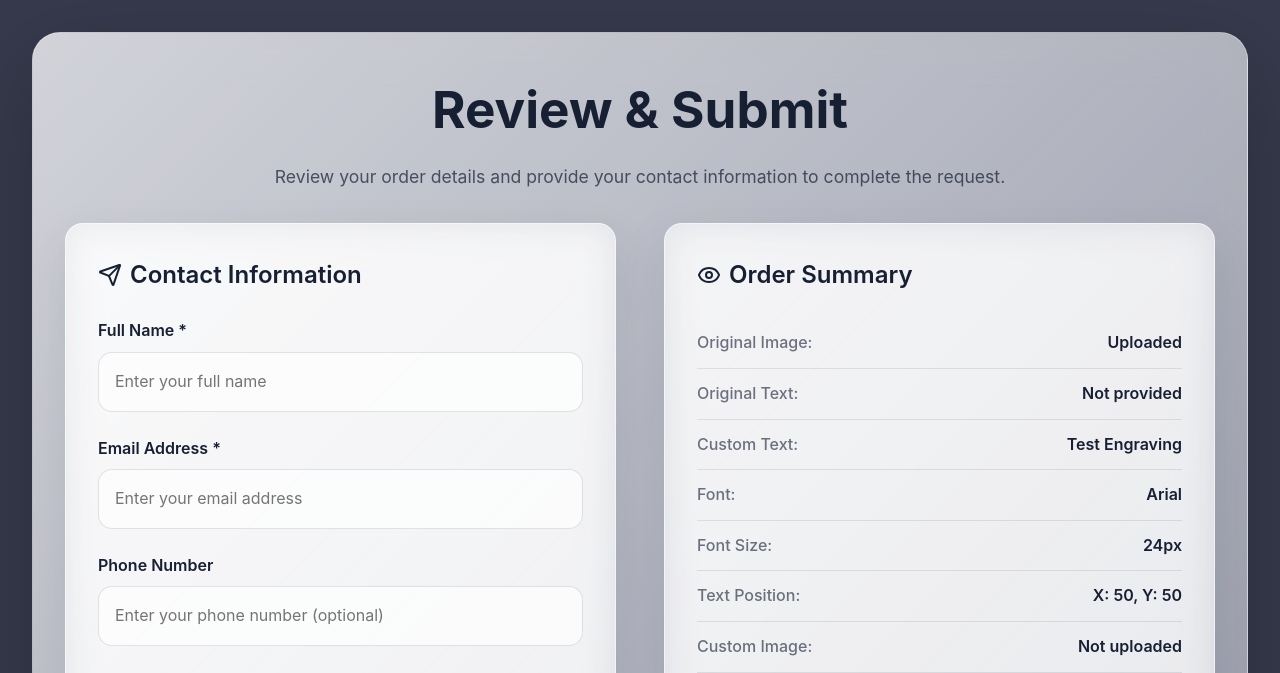
Scenario: Step3Submit Integration Tests › successfully submits and stores request
Note: Fill in required fields
Type "John Doe" into the field labelled "Full Name *" at (340, 382), box [98,352,583,412]
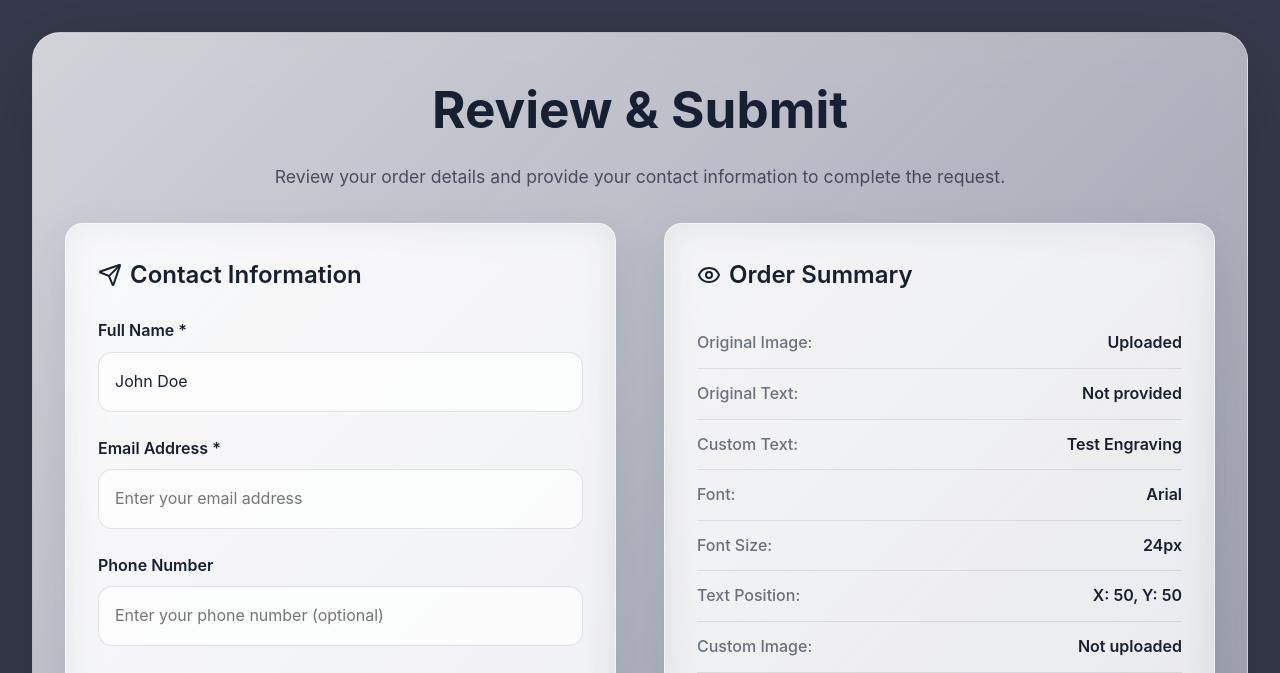
Type "john@example.com" into the field labelled "Email Address *" at (340, 499), box [98,469,583,529]
(page scrolled)
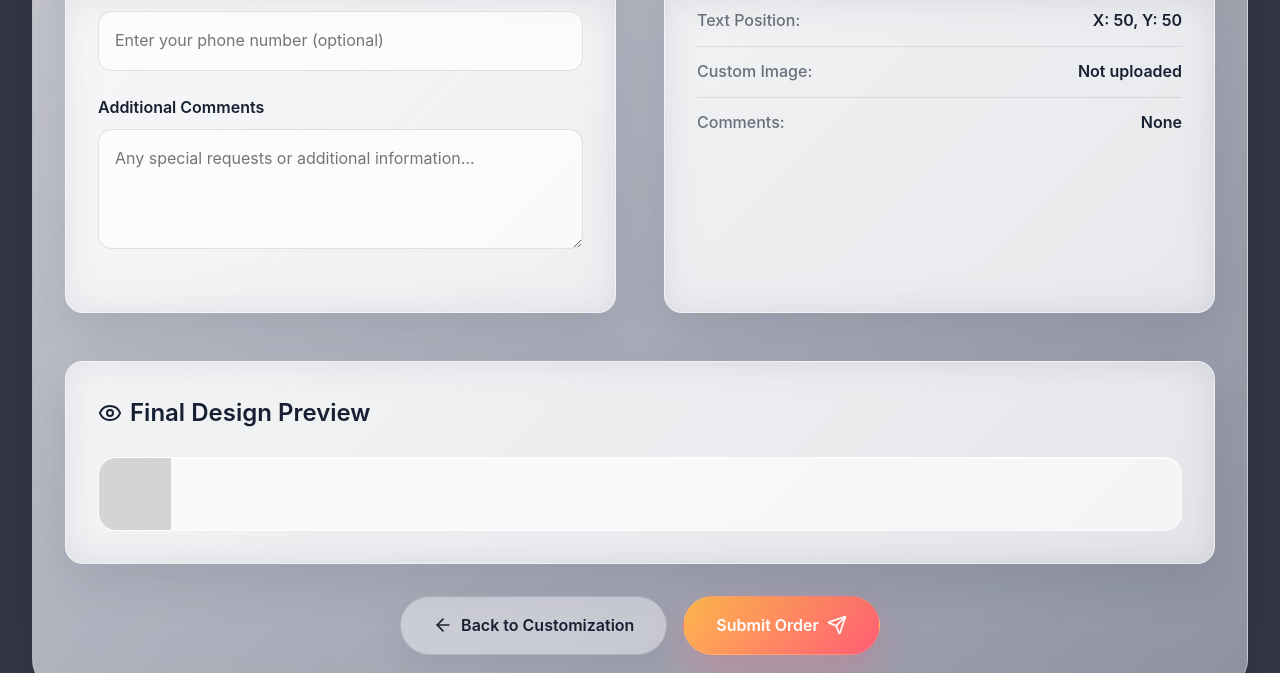
Note: Submit the form
Click the button "Submit Order" at (782, 625), box [683,596,880,655]
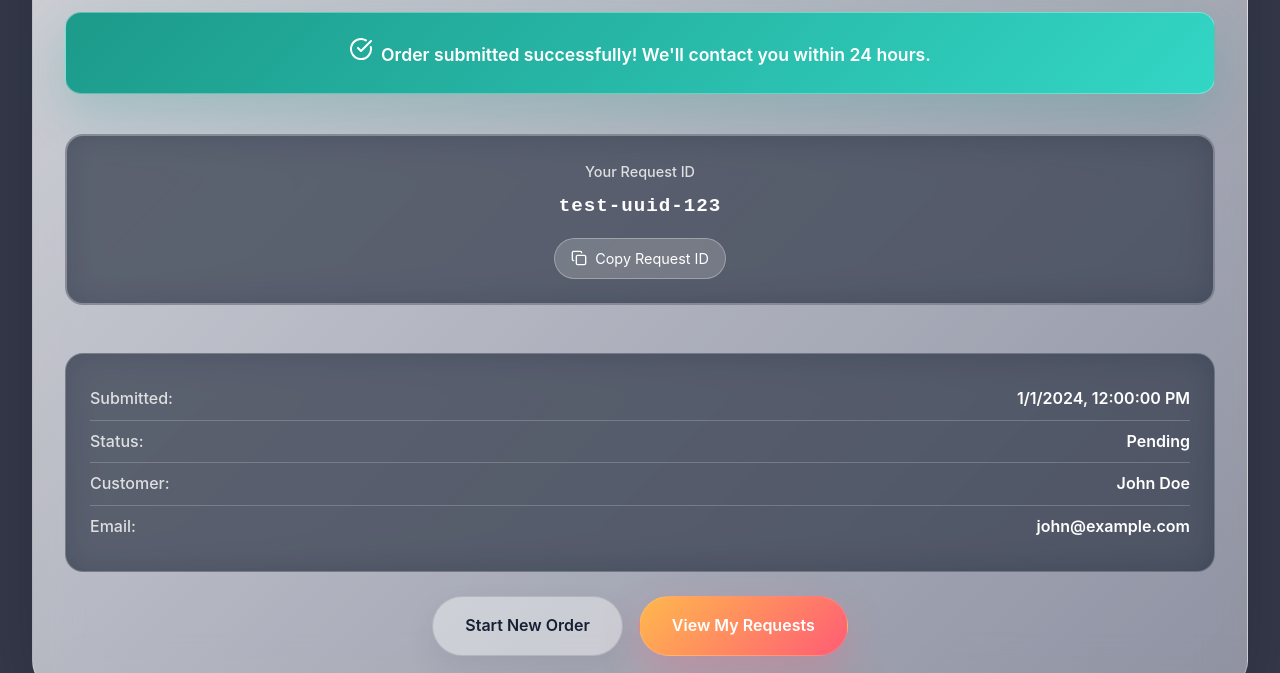
Check: the text "Order submitted successfully" is shown, box [381,44,931,65]
Check: the text "test-uuid-123" is shown, box [559,195,721,217]
Check: the text "Your Request ID" is shown, box [585,163,695,180]
